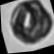correct: (3, 0, 54, 52)
